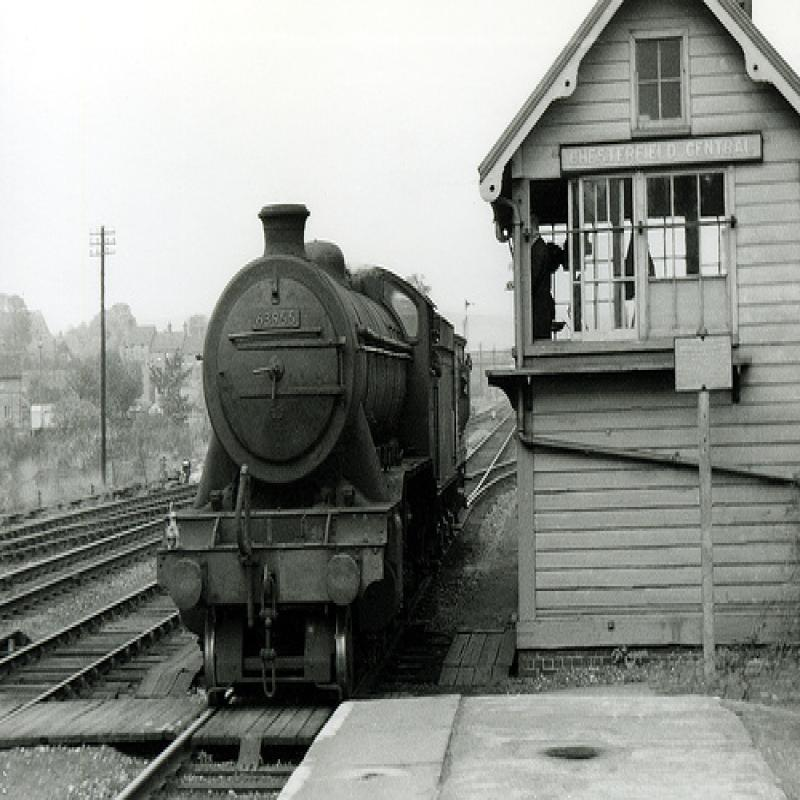train: (160, 205, 477, 698)
